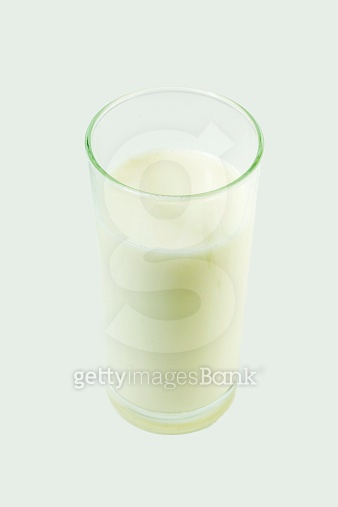glass of milk: (86, 87, 266, 436)
